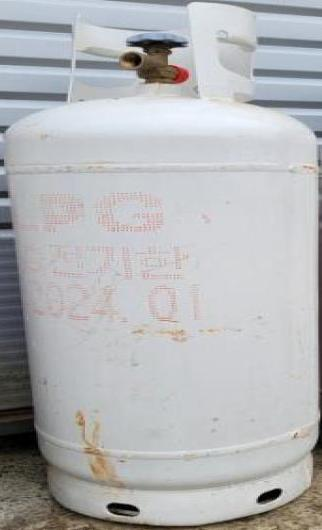cylinder: (0, 1, 322, 530)
